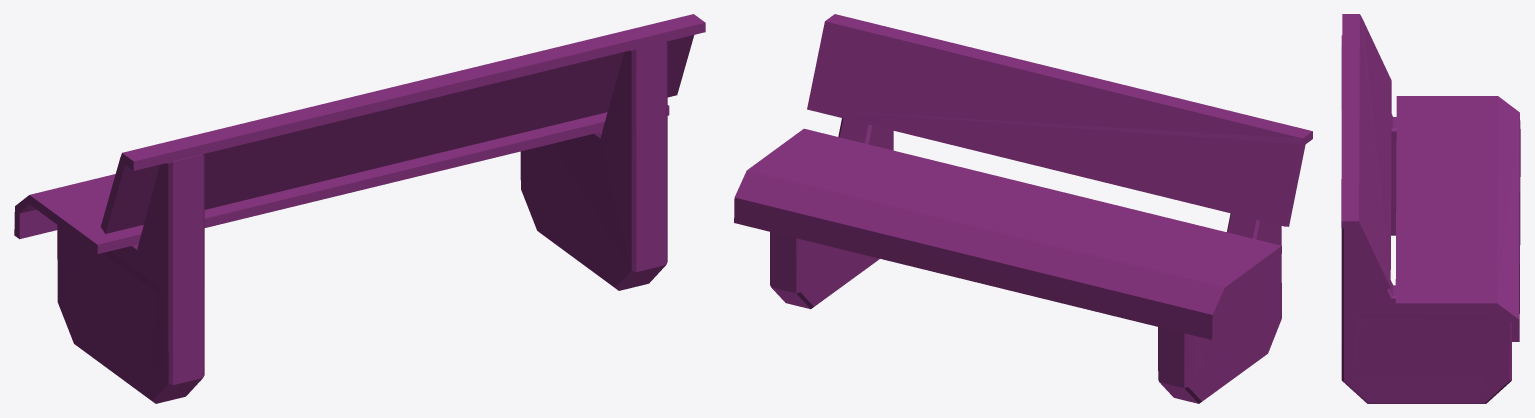
File: mcp_street_bench_01_LOD_1.FBX
3 views of the same model, side by side, from view 1: azimuth 30°, elevation 25°; view 2: azimuth 150°, elevation 25°; view 3: azimuth 270°, elevation 25° (orthographic). The views are drawn at different scales.
Parts seen in each view (by area): view 1: mcp_street_bench_01; view 2: mcp_street_bench_01; view 3: mcp_street_bench_01.
Part boxes in pixels (bbox=[...]): mcp_street_bench_01: bbox=[14, 14, 705, 403]; mcp_street_bench_01: bbox=[734, 14, 1312, 403]; mcp_street_bench_01: bbox=[1341, 14, 1520, 403].
Bounding box in the file's own units: 282 × 124 × 103.
